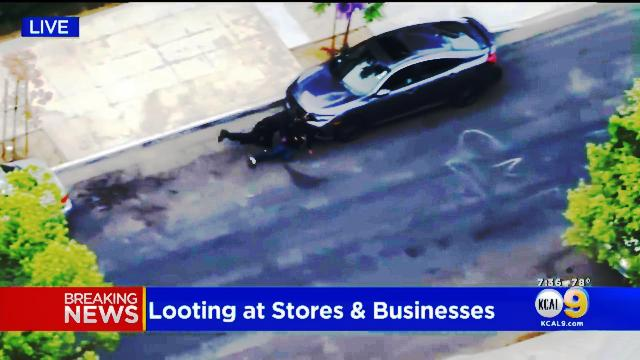jatuh: (221, 106, 323, 170)
